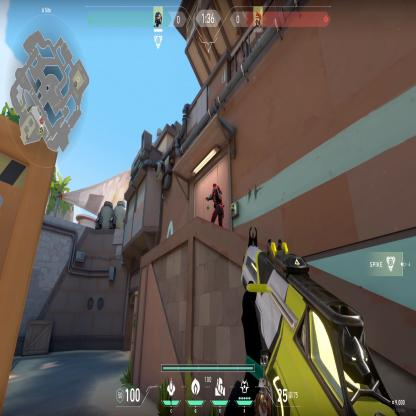enemy: (205, 181, 225, 229)
